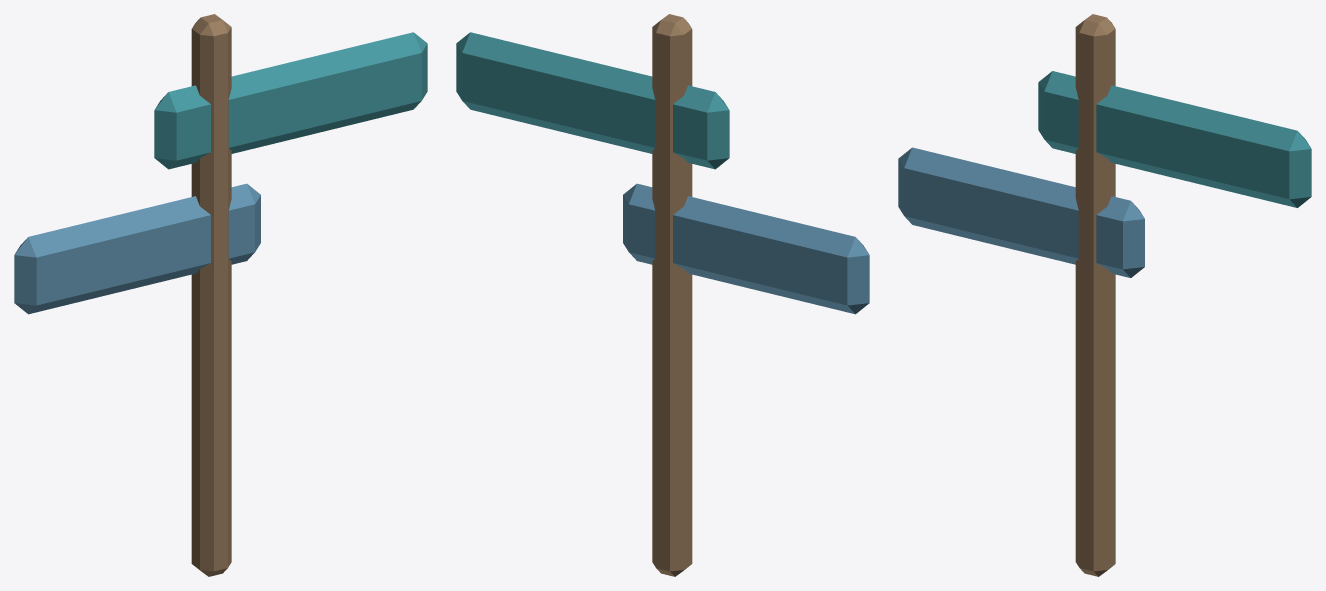
Rendered from sign_wayfinding_lod2_v2.glb.
3 views of the same model, side by side, from view 1: azimuth 30°, elevation 25°; view 2: azimuth 150°, elevation 25°; view 3: azimuth 330°, elevation 25° (orthographic).
Parts seen in each view (by area): view 1: LOD2_SIGN_WAYFINDING_Pole, LOD2_SIGN_WAYFINDING_ArrowA, LOD2_SIGN_WAYFINDING_ArrowB; view 2: LOD2_SIGN_WAYFINDING_Pole, LOD2_SIGN_WAYFINDING_ArrowA, LOD2_SIGN_WAYFINDING_ArrowB; view 3: LOD2_SIGN_WAYFINDING_Pole, LOD2_SIGN_WAYFINDING_ArrowA, LOD2_SIGN_WAYFINDING_ArrowB.
Part boxes in pixels (x1,y1,x2,y2): LOD2_SIGN_WAYFINDING_Pole: (191,14,231,576); LOD2_SIGN_WAYFINDING_ArrowA: (154,32,427,169); LOD2_SIGN_WAYFINDING_ArrowB: (14,183,260,314); LOD2_SIGN_WAYFINDING_Pole: (652,14,692,576); LOD2_SIGN_WAYFINDING_ArrowA: (456,32,729,169); LOD2_SIGN_WAYFINDING_ArrowB: (623,183,869,314); LOD2_SIGN_WAYFINDING_Pole: (1075,14,1115,576); LOD2_SIGN_WAYFINDING_ArrowA: (1038,71,1311,207); LOD2_SIGN_WAYFINDING_ArrowB: (898,147,1144,277).
Size of what is drawn, in the model's own units: 2.35 by 3 by 0.18.
